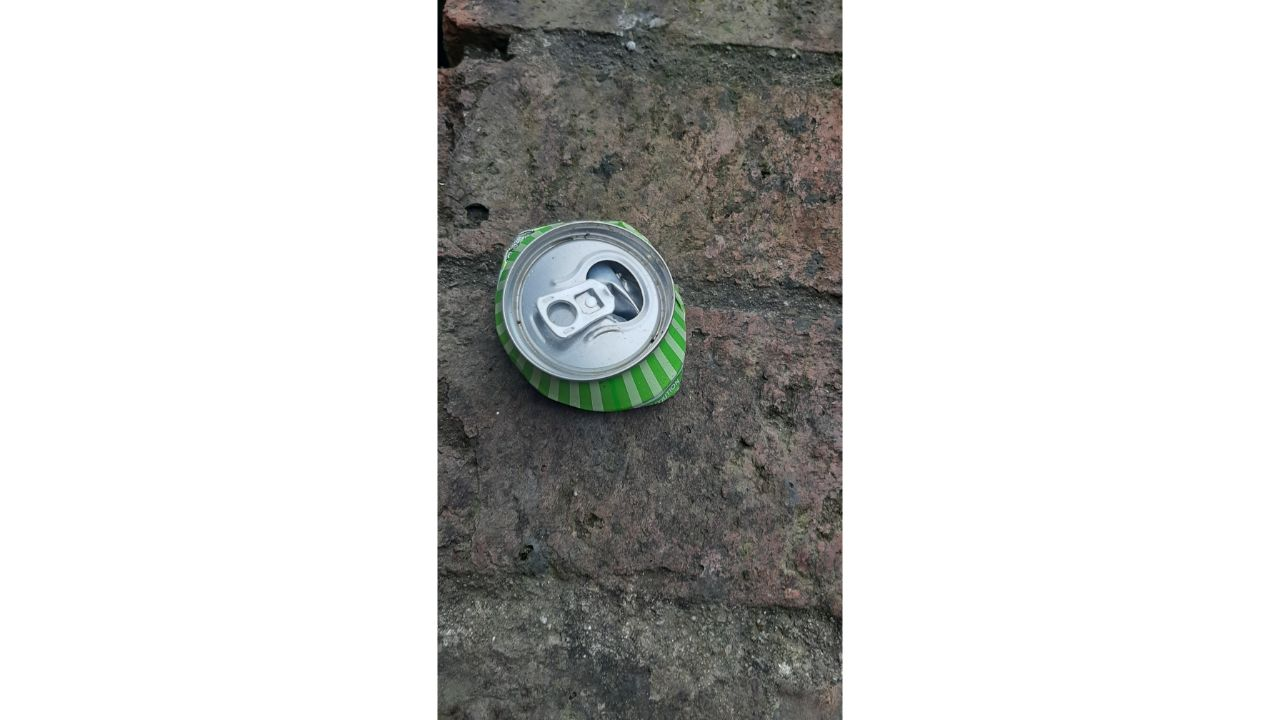Can: (492, 218, 690, 414)
